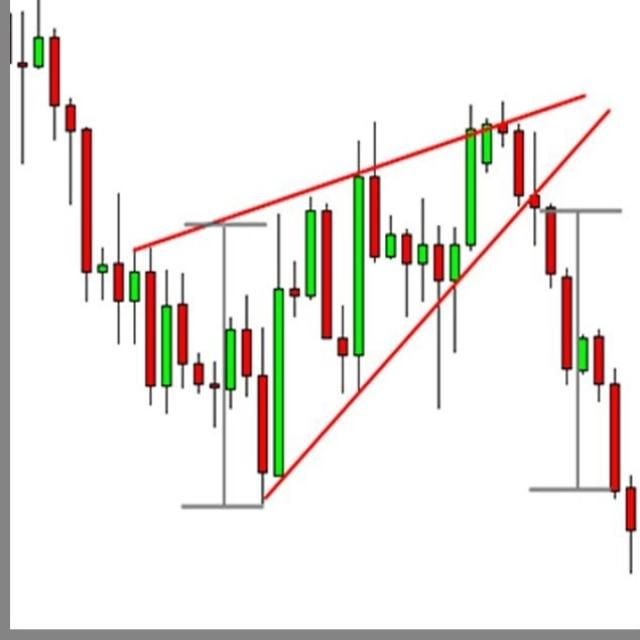Rising-Wedge: (77, 101, 591, 549)
